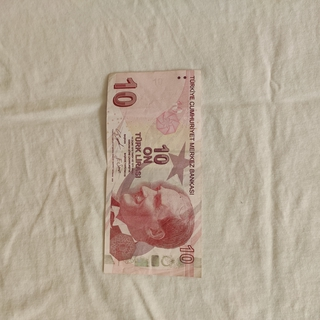10TLFront: (102, 67, 202, 278)
